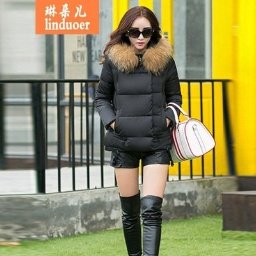face: (109, 5, 165, 54)
